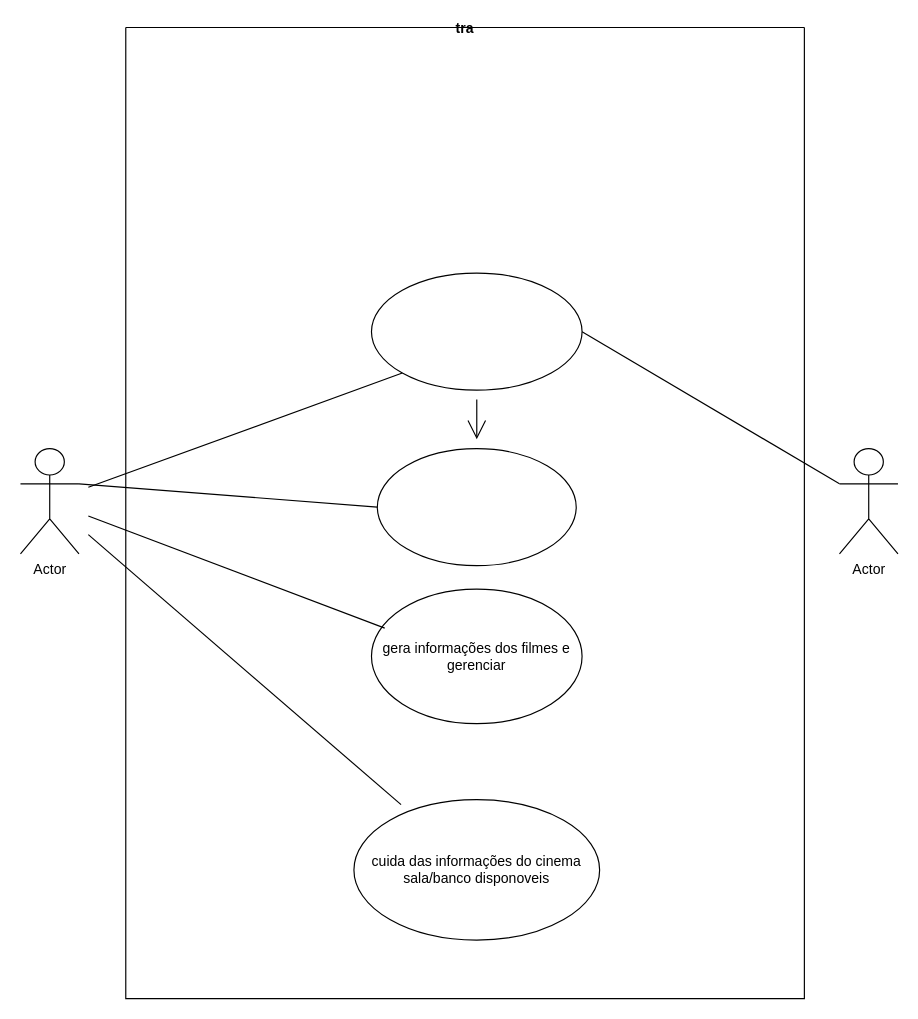
Some shapes in this 918 by 1019 pixel diagram are drawn without their labels. The box of each missing label's shape, as (x1, y1, x2, y2) in pixels:
compra/vender ingressos seguindo os dados do cliente para inteira ou meia: (370, 272, 582, 390)
transmitir os horários e filmes disponíveis ao cliente: (376, 448, 576, 566)
